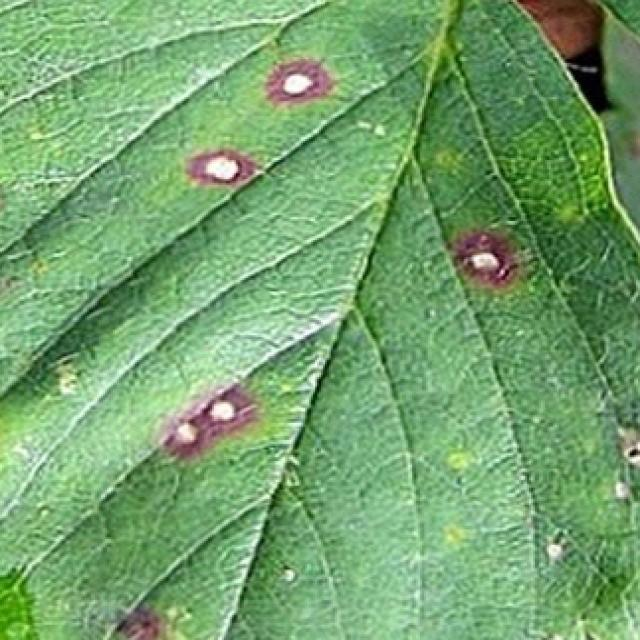Leaf Spot: (600, 8, 640, 237)
